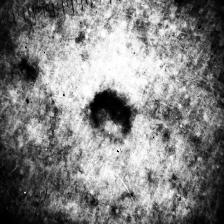Benign Marking or Mole: (90, 88, 137, 144)
